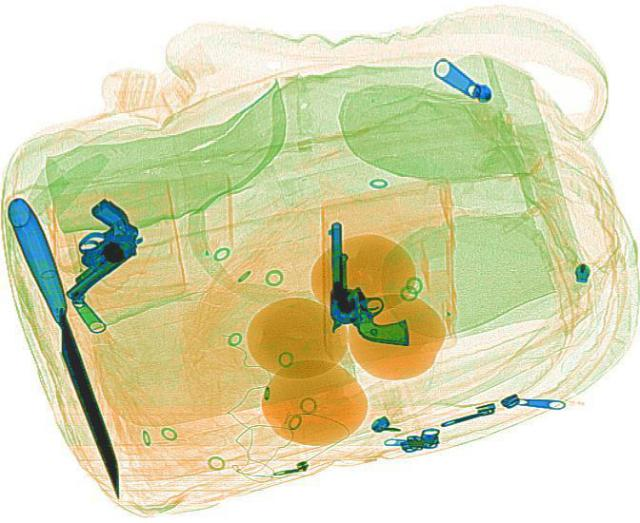Gun: (19, 194, 159, 301), (324, 219, 406, 346)
Knife: (2, 195, 134, 498)
